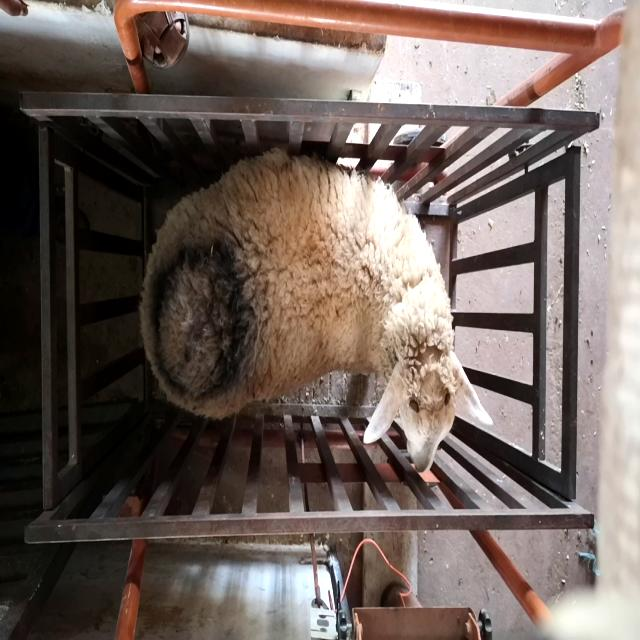sheep: (140, 148, 494, 474)
